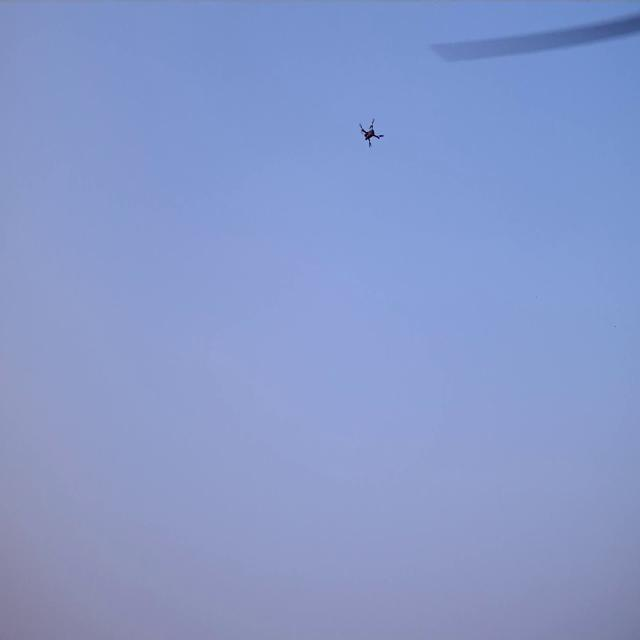UAV: (358, 114, 385, 150)
